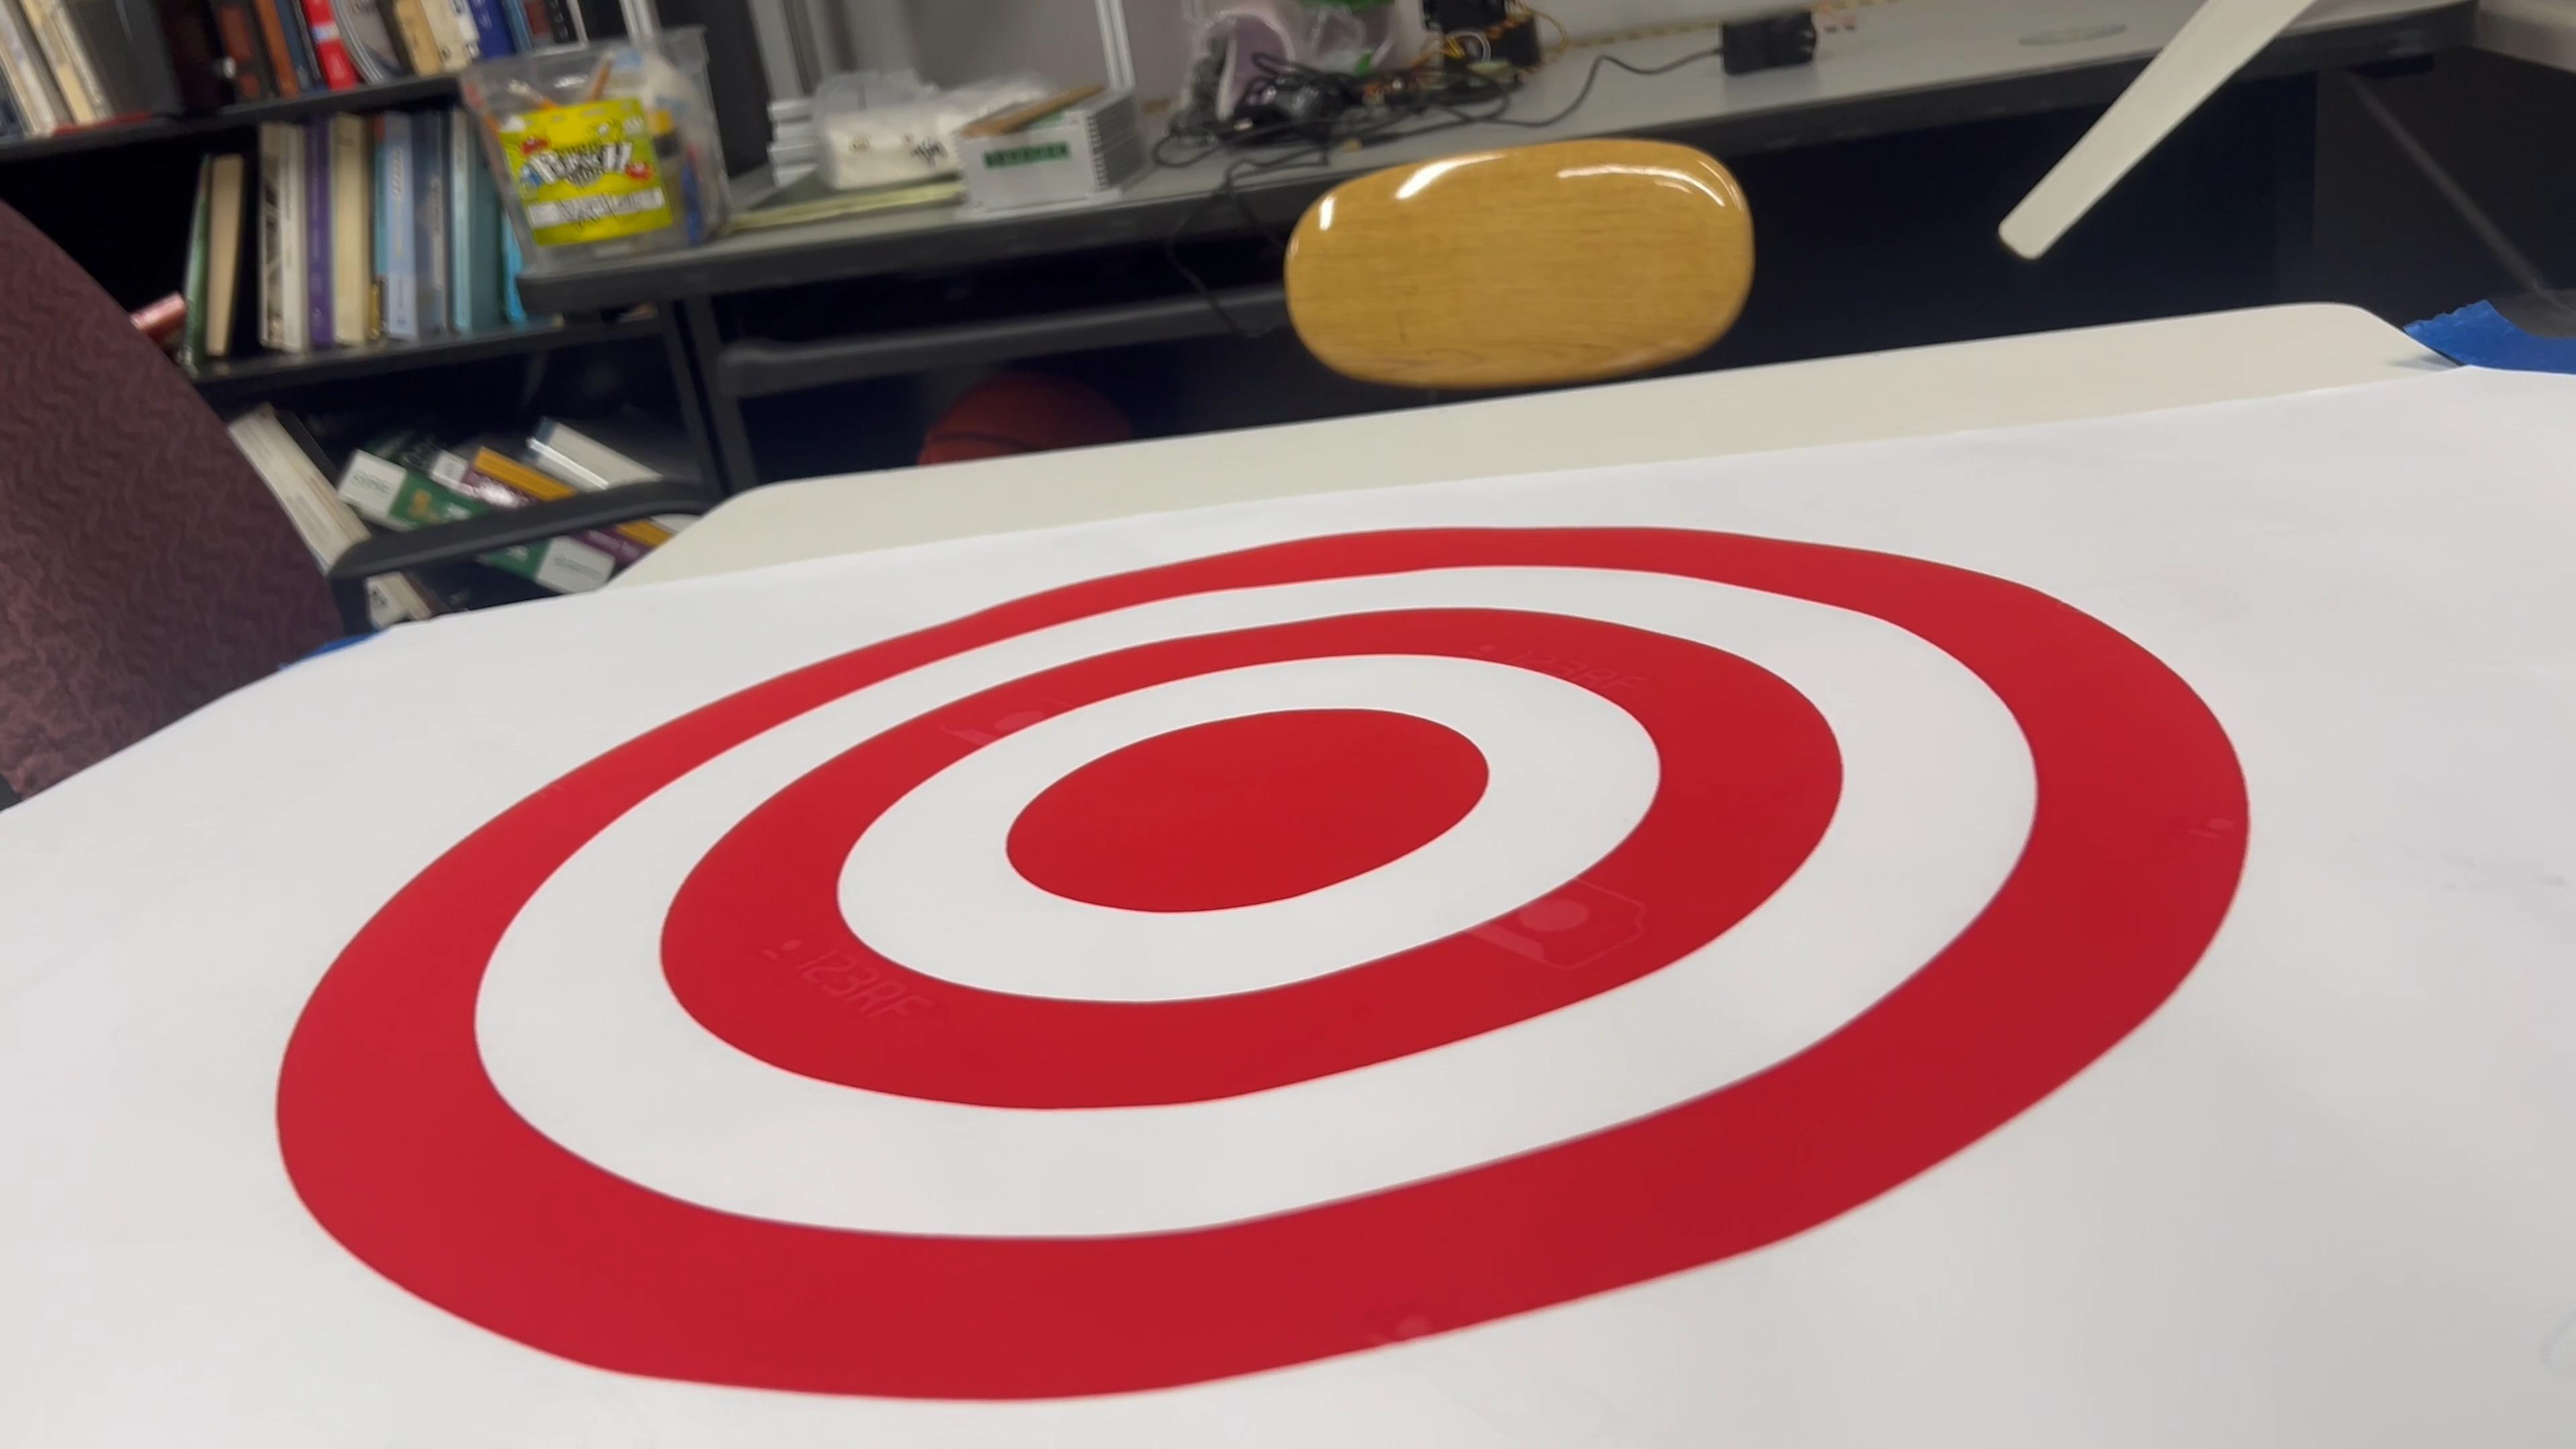target_red: (226, 511, 2282, 1422)
